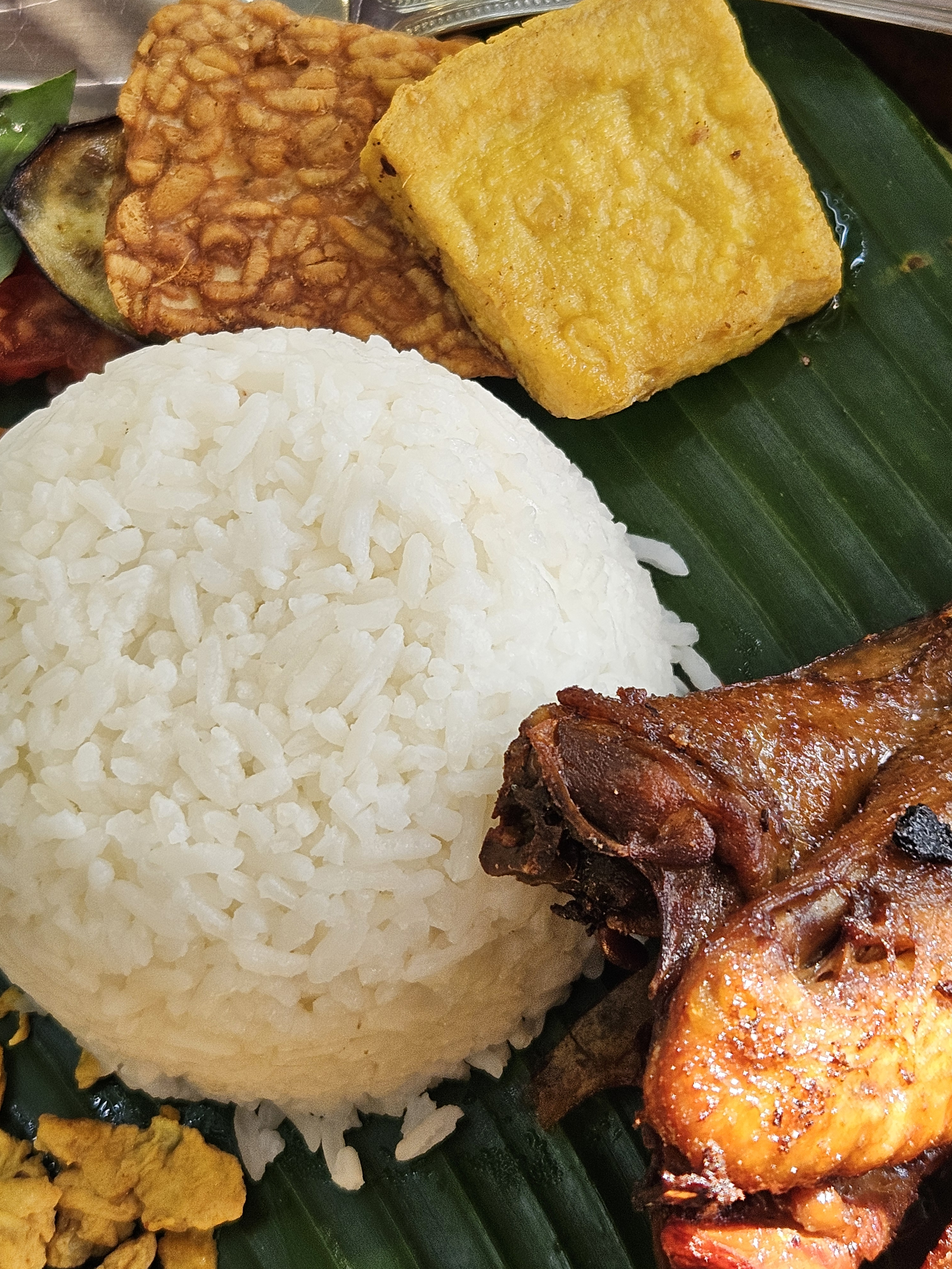daging: (641, 657, 952, 1269)
kacang_legume: (138, 11, 795, 351)
makanan_berpati: (11, 341, 628, 1133)
